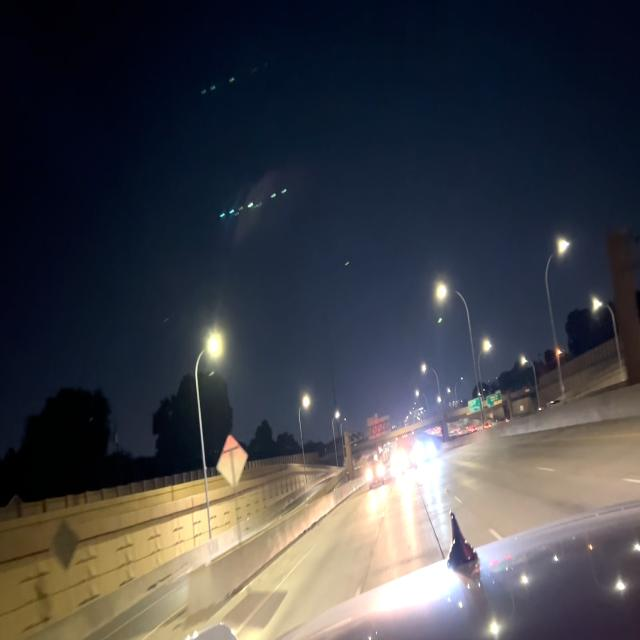back-of-sign: (215, 432, 249, 488), (365, 411, 392, 444)
